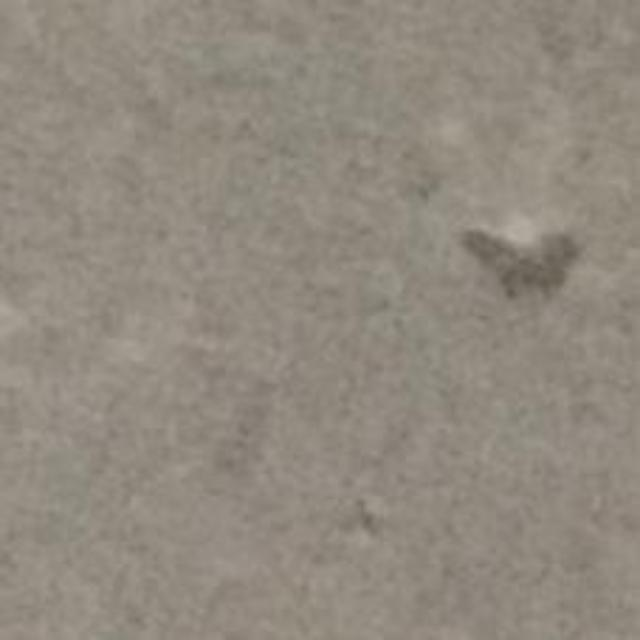peeling plaster: (463, 229, 580, 298)
